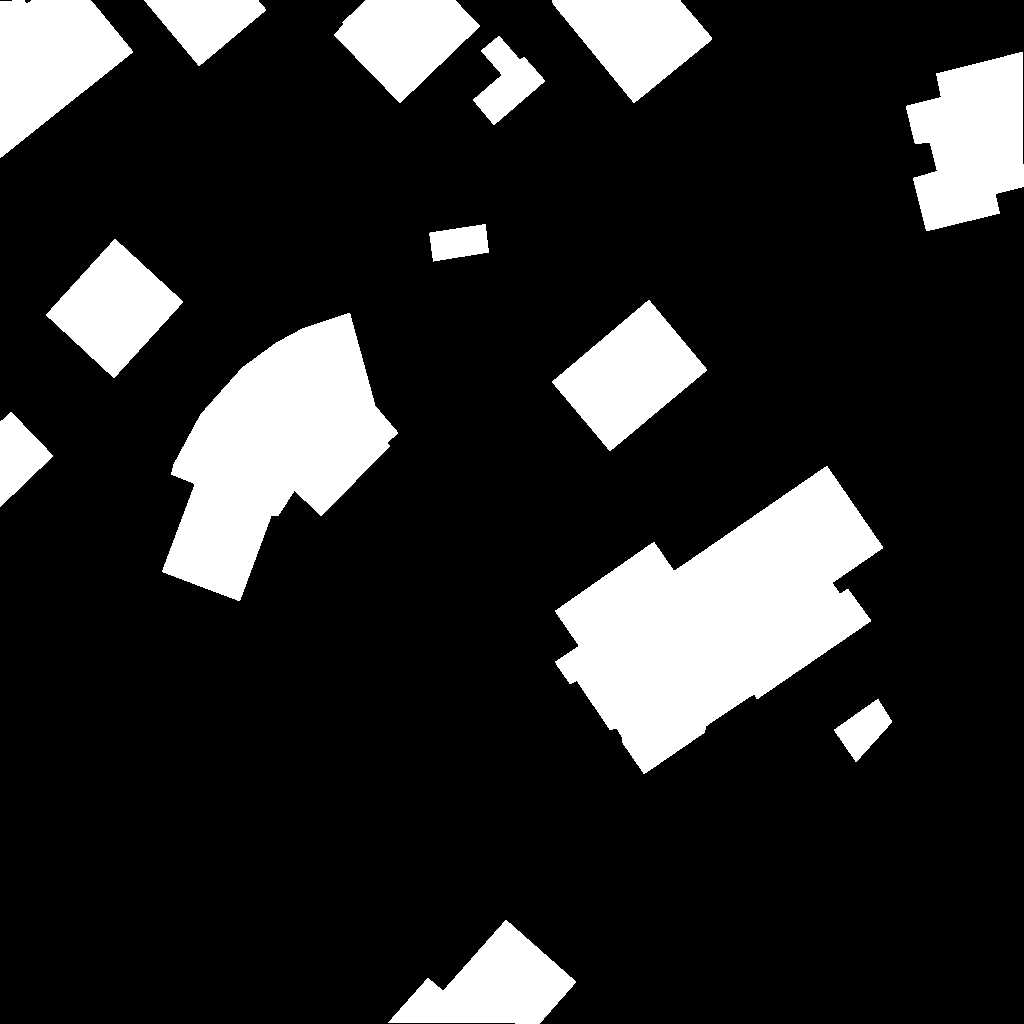building: (555, 466, 884, 775), (162, 313, 399, 602), (552, 300, 708, 452), (0, 0, 134, 159), (906, 52, 1024, 232), (388, 920, 577, 1024), (46, 239, 184, 379), (551, 0, 713, 104), (334, 0, 481, 104), (144, 0, 267, 67), (473, 36, 546, 126), (0, 412, 54, 508), (834, 699, 893, 763), (429, 224, 490, 262)
